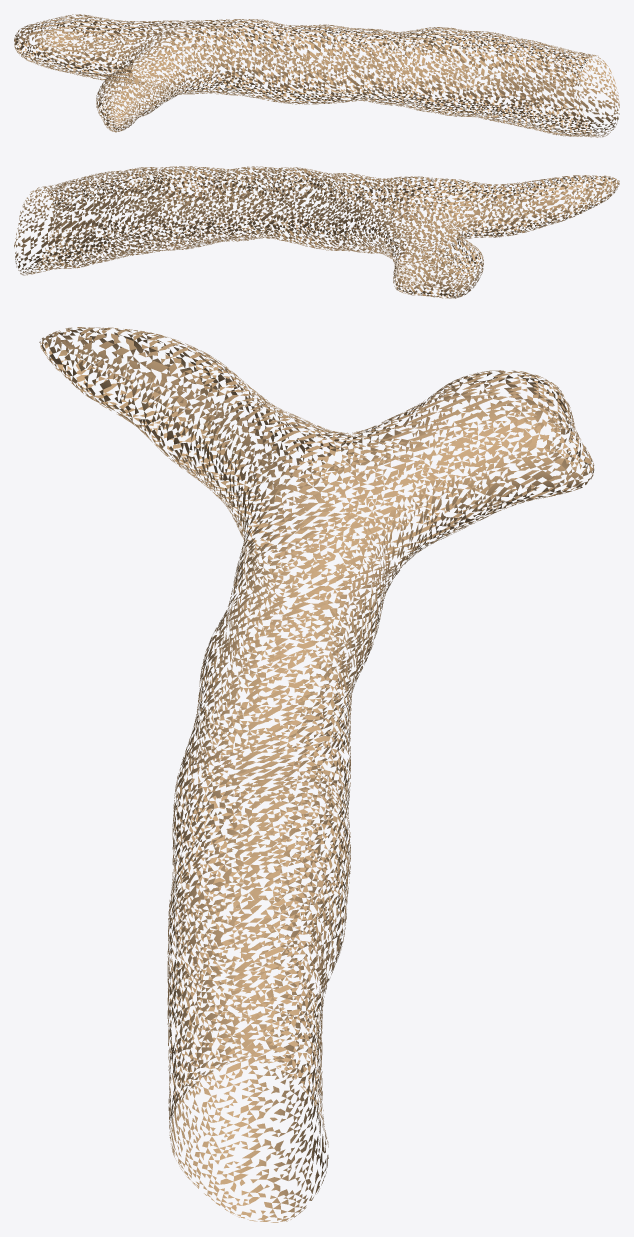
Rendered from morph_006.glb.
The picture shows the model from 3 angles, top to bottom: view 1: azimuth 30°, elevation 25°; view 2: azimuth 150°, elevation 25°; view 3: azimuth 270°, elevation 25°; orthographic projection. The views are drawn at different scales.
Bounding box in the file's own units: 117 × 41.17 × 52.61.
